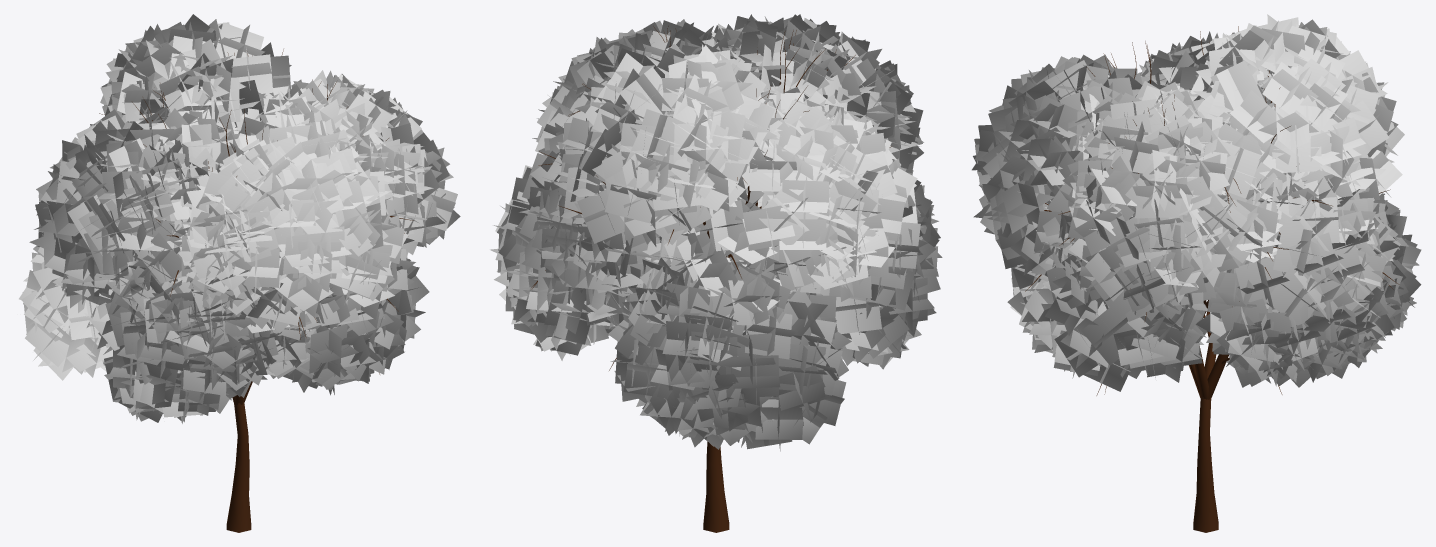
The model's file is Tree_1.fbx.
3 renders of one model, left to right at view 1: azimuth 30°, elevation 25°; view 2: azimuth 150°, elevation 25°; view 3: azimuth 270°, elevation 25°, orthographic. The views are drawn at different scales.
Parts seen in each view (by area): view 1: Leaves_1, Trunk_1; view 2: Leaves_1, Trunk_1; view 3: Leaves_1, Trunk_1.
Boxes of the visible parts, x1=… form: Leaves_1: x1=19, y1=14, x2=460, y2=423; Trunk_1: x1=99, y1=49, x2=413, y2=532; Leaves_1: x1=490, y1=14, x2=942, y2=451; Trunk_1: x1=531, y1=26, x2=891, y2=532; Leaves_1: x1=972, y1=14, x2=1421, y2=391; Trunk_1: x1=1025, y1=26, x2=1399, y2=532.
Size of the model in its own units: 618 by 749 by 617.
